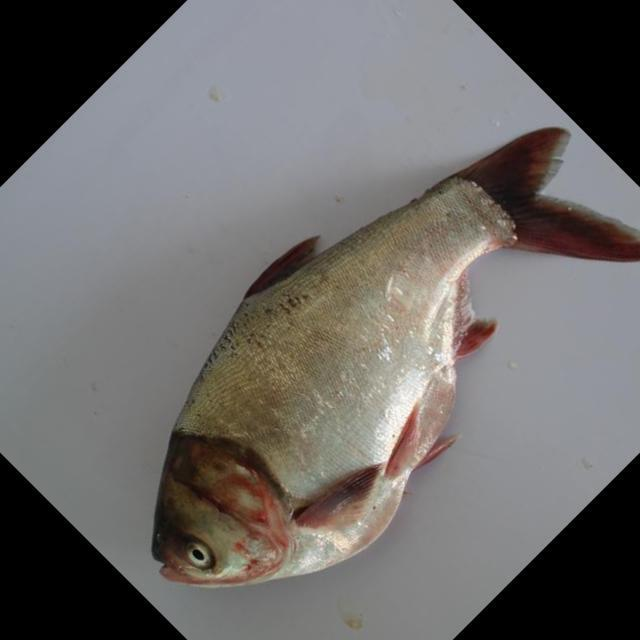SilverCarp: (135, 115, 597, 595)
